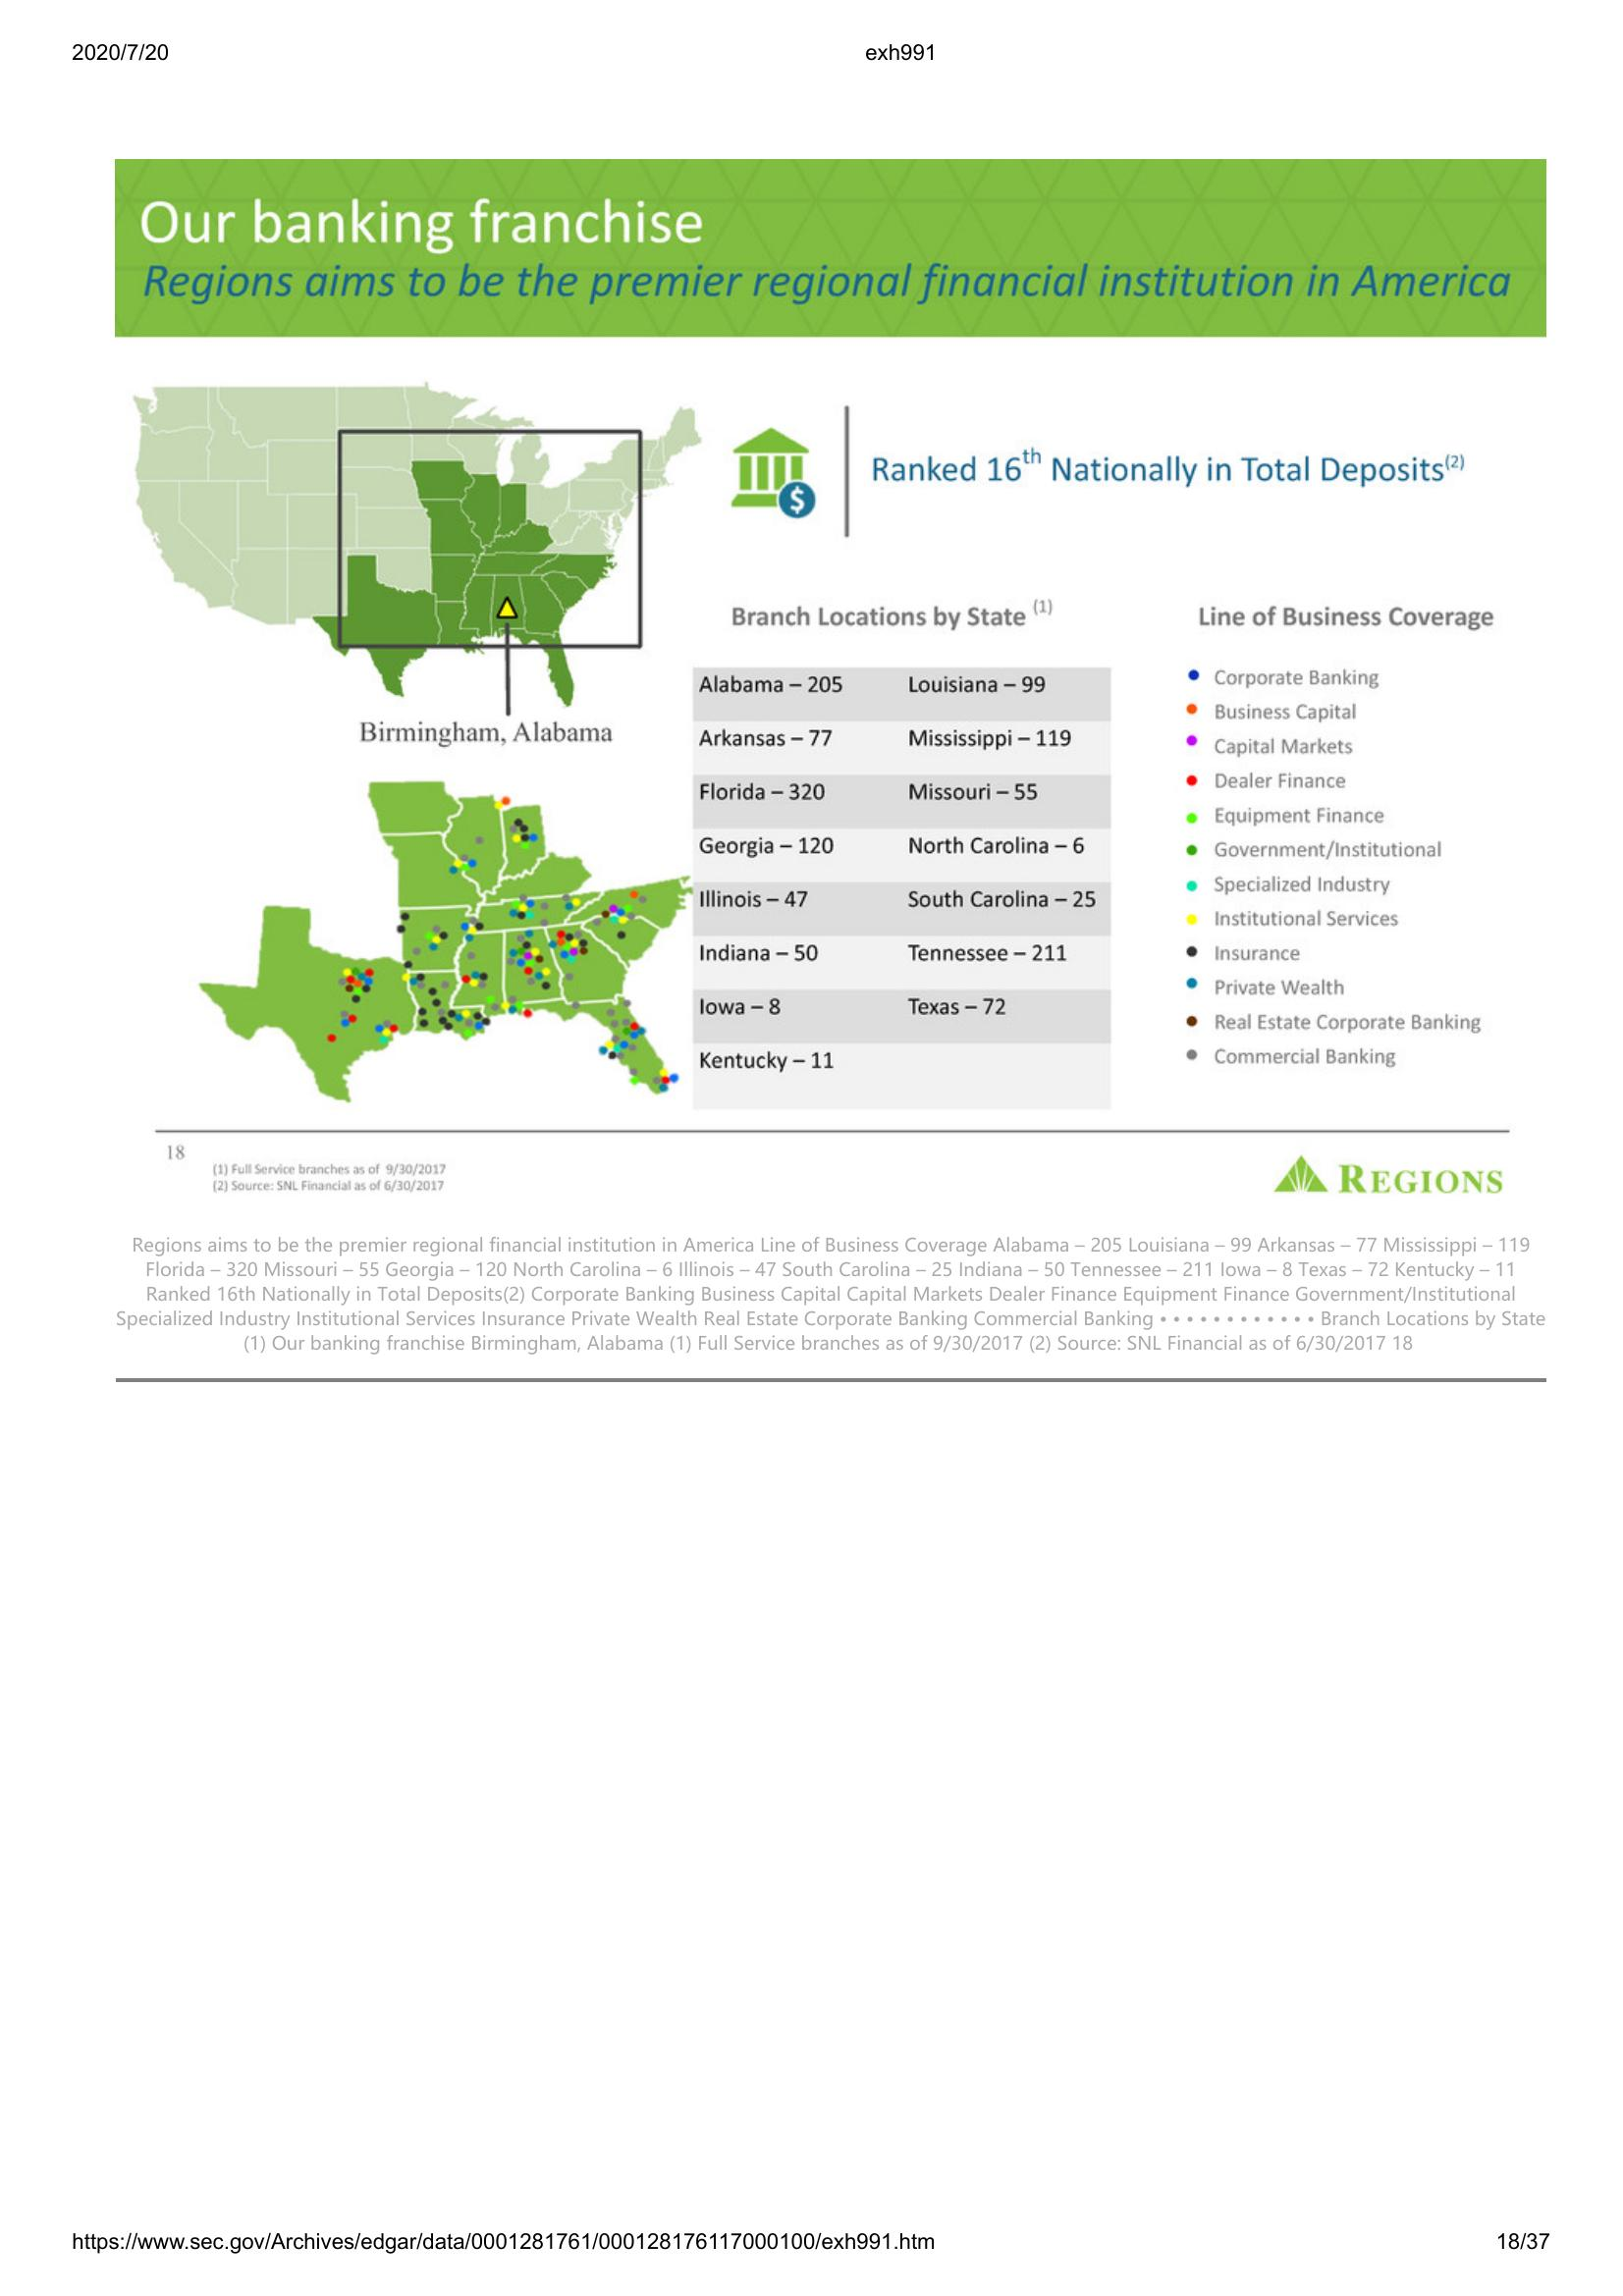table: (685, 662, 1117, 1106)
